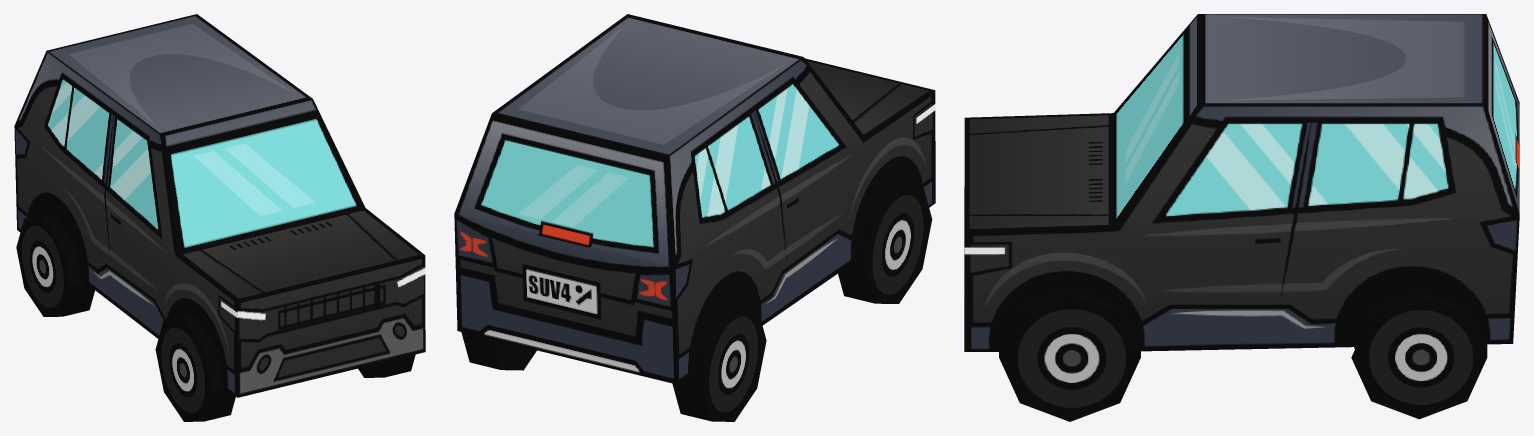
File: car13_9.gltf
3 views of the same model, side by side, from view 1: azimuth 30°, elevation 25°; view 2: azimuth 150°, elevation 25°; view 3: azimuth 270°, elevation 25° (orthographic). The views are drawn at different scales.
Visible parts, largest first — view 1: Cylinder.002; view 2: Cylinder.002; view 3: Cylinder.002.
Part boxes in pixels (x1=…): Cylinder.002: x1=14, y1=14, x2=425, y2=421; Cylinder.002: x1=454, y1=14, x2=935, y2=421; Cylinder.002: x1=964, y1=14, x2=1519, y2=421.
Size of the model in its own units: 2.79 by 3.11 by 5.21.
Materials: 1 (1 with a texture image).
